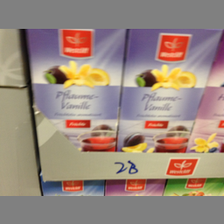tea: (117, 30, 222, 152), (25, 30, 124, 152)
